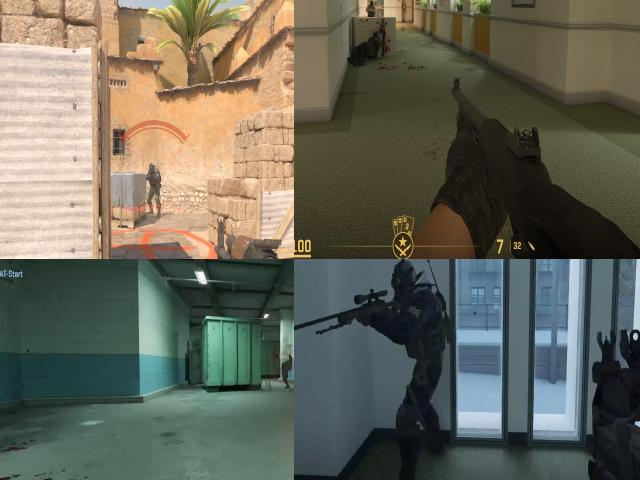CT: (388, 259, 449, 391), (148, 163, 161, 214)
CT-Head: (393, 259, 423, 305), (149, 163, 155, 172)
Dead: (348, 31, 388, 65), (273, 349, 294, 386)
T: (367, 0, 376, 16)
T-Head: (370, 1, 374, 6)
